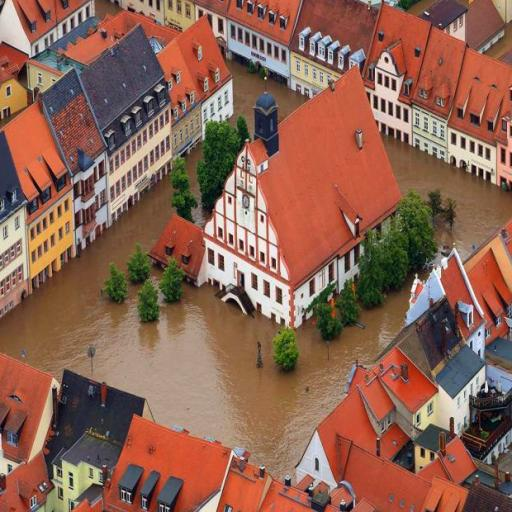flood: (0, 178, 411, 477), (385, 137, 512, 257), (228, 61, 264, 127), (268, 79, 306, 118), (488, 23, 512, 57), (97, 0, 118, 14), (412, 0, 433, 11)
house: (200, 70, 409, 322), (361, 0, 508, 171), (81, 22, 177, 226), (298, 346, 438, 482), (0, 103, 70, 321), (384, 297, 488, 431), (108, 414, 232, 512), (45, 67, 111, 245), (154, 20, 234, 158), (0, 353, 56, 469), (298, 0, 372, 86), (340, 445, 438, 509), (420, 444, 512, 512), (448, 237, 512, 333), (0, 0, 100, 56), (222, 0, 308, 58), (56, 430, 114, 512), (152, 210, 202, 288), (438, 246, 481, 332), (123, 0, 211, 30), (0, 47, 26, 138)
